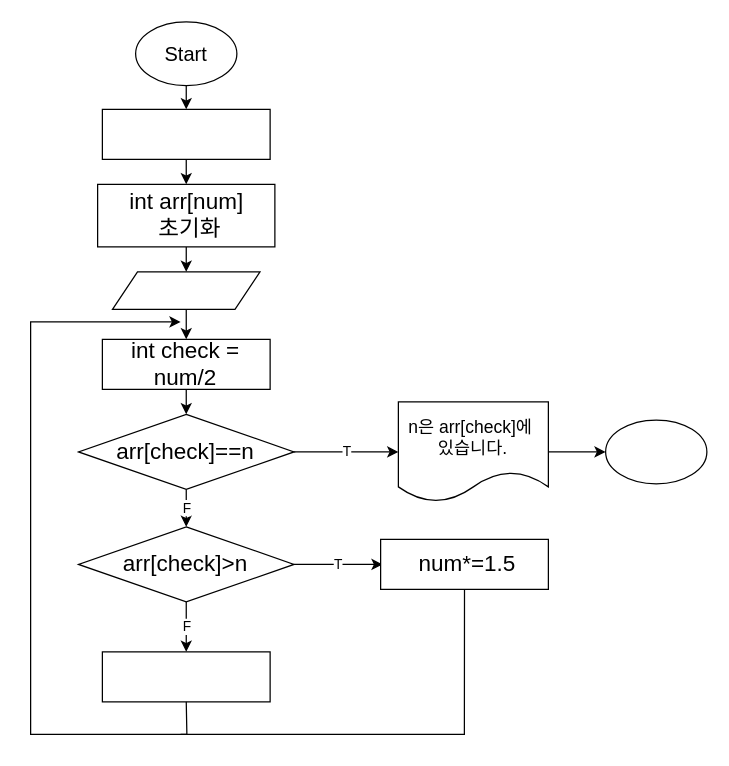
Some shapes in this 729 by 766 pixel diagram are drawn without their labels. Here are the shapes that lost their labels. From the top down, the centre of each, then its label:
At [185,133]: "const int num=11".
At [185,290]: "n 값 입력".
At [655,451]: "End".
At [185,676]: "num/=2".
